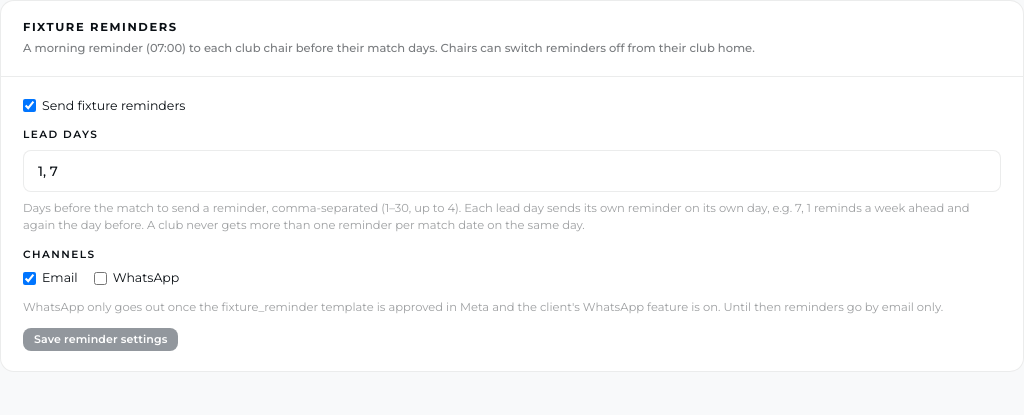
Test: FixtureRemindersCard › says so when edited lead days normalise to the saved value
The image size is (1024, 415).
Replace the text in the field labelled "Lead days" with "7,1" at [512, 171], box [23,150,1001,192]
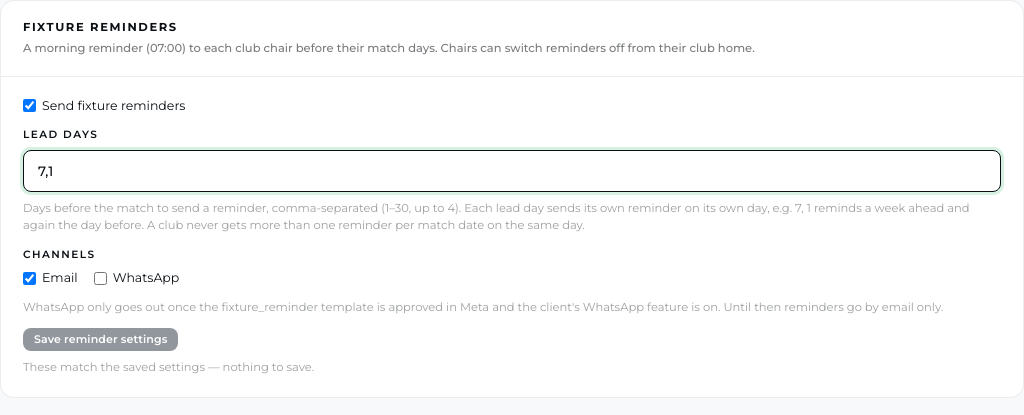
Expected: the button "Save reminder settings" is disabled, [23,328,178,351]
Now the text "These match the saved settings — nothing to save." is shown, box [23,360,314,374]
